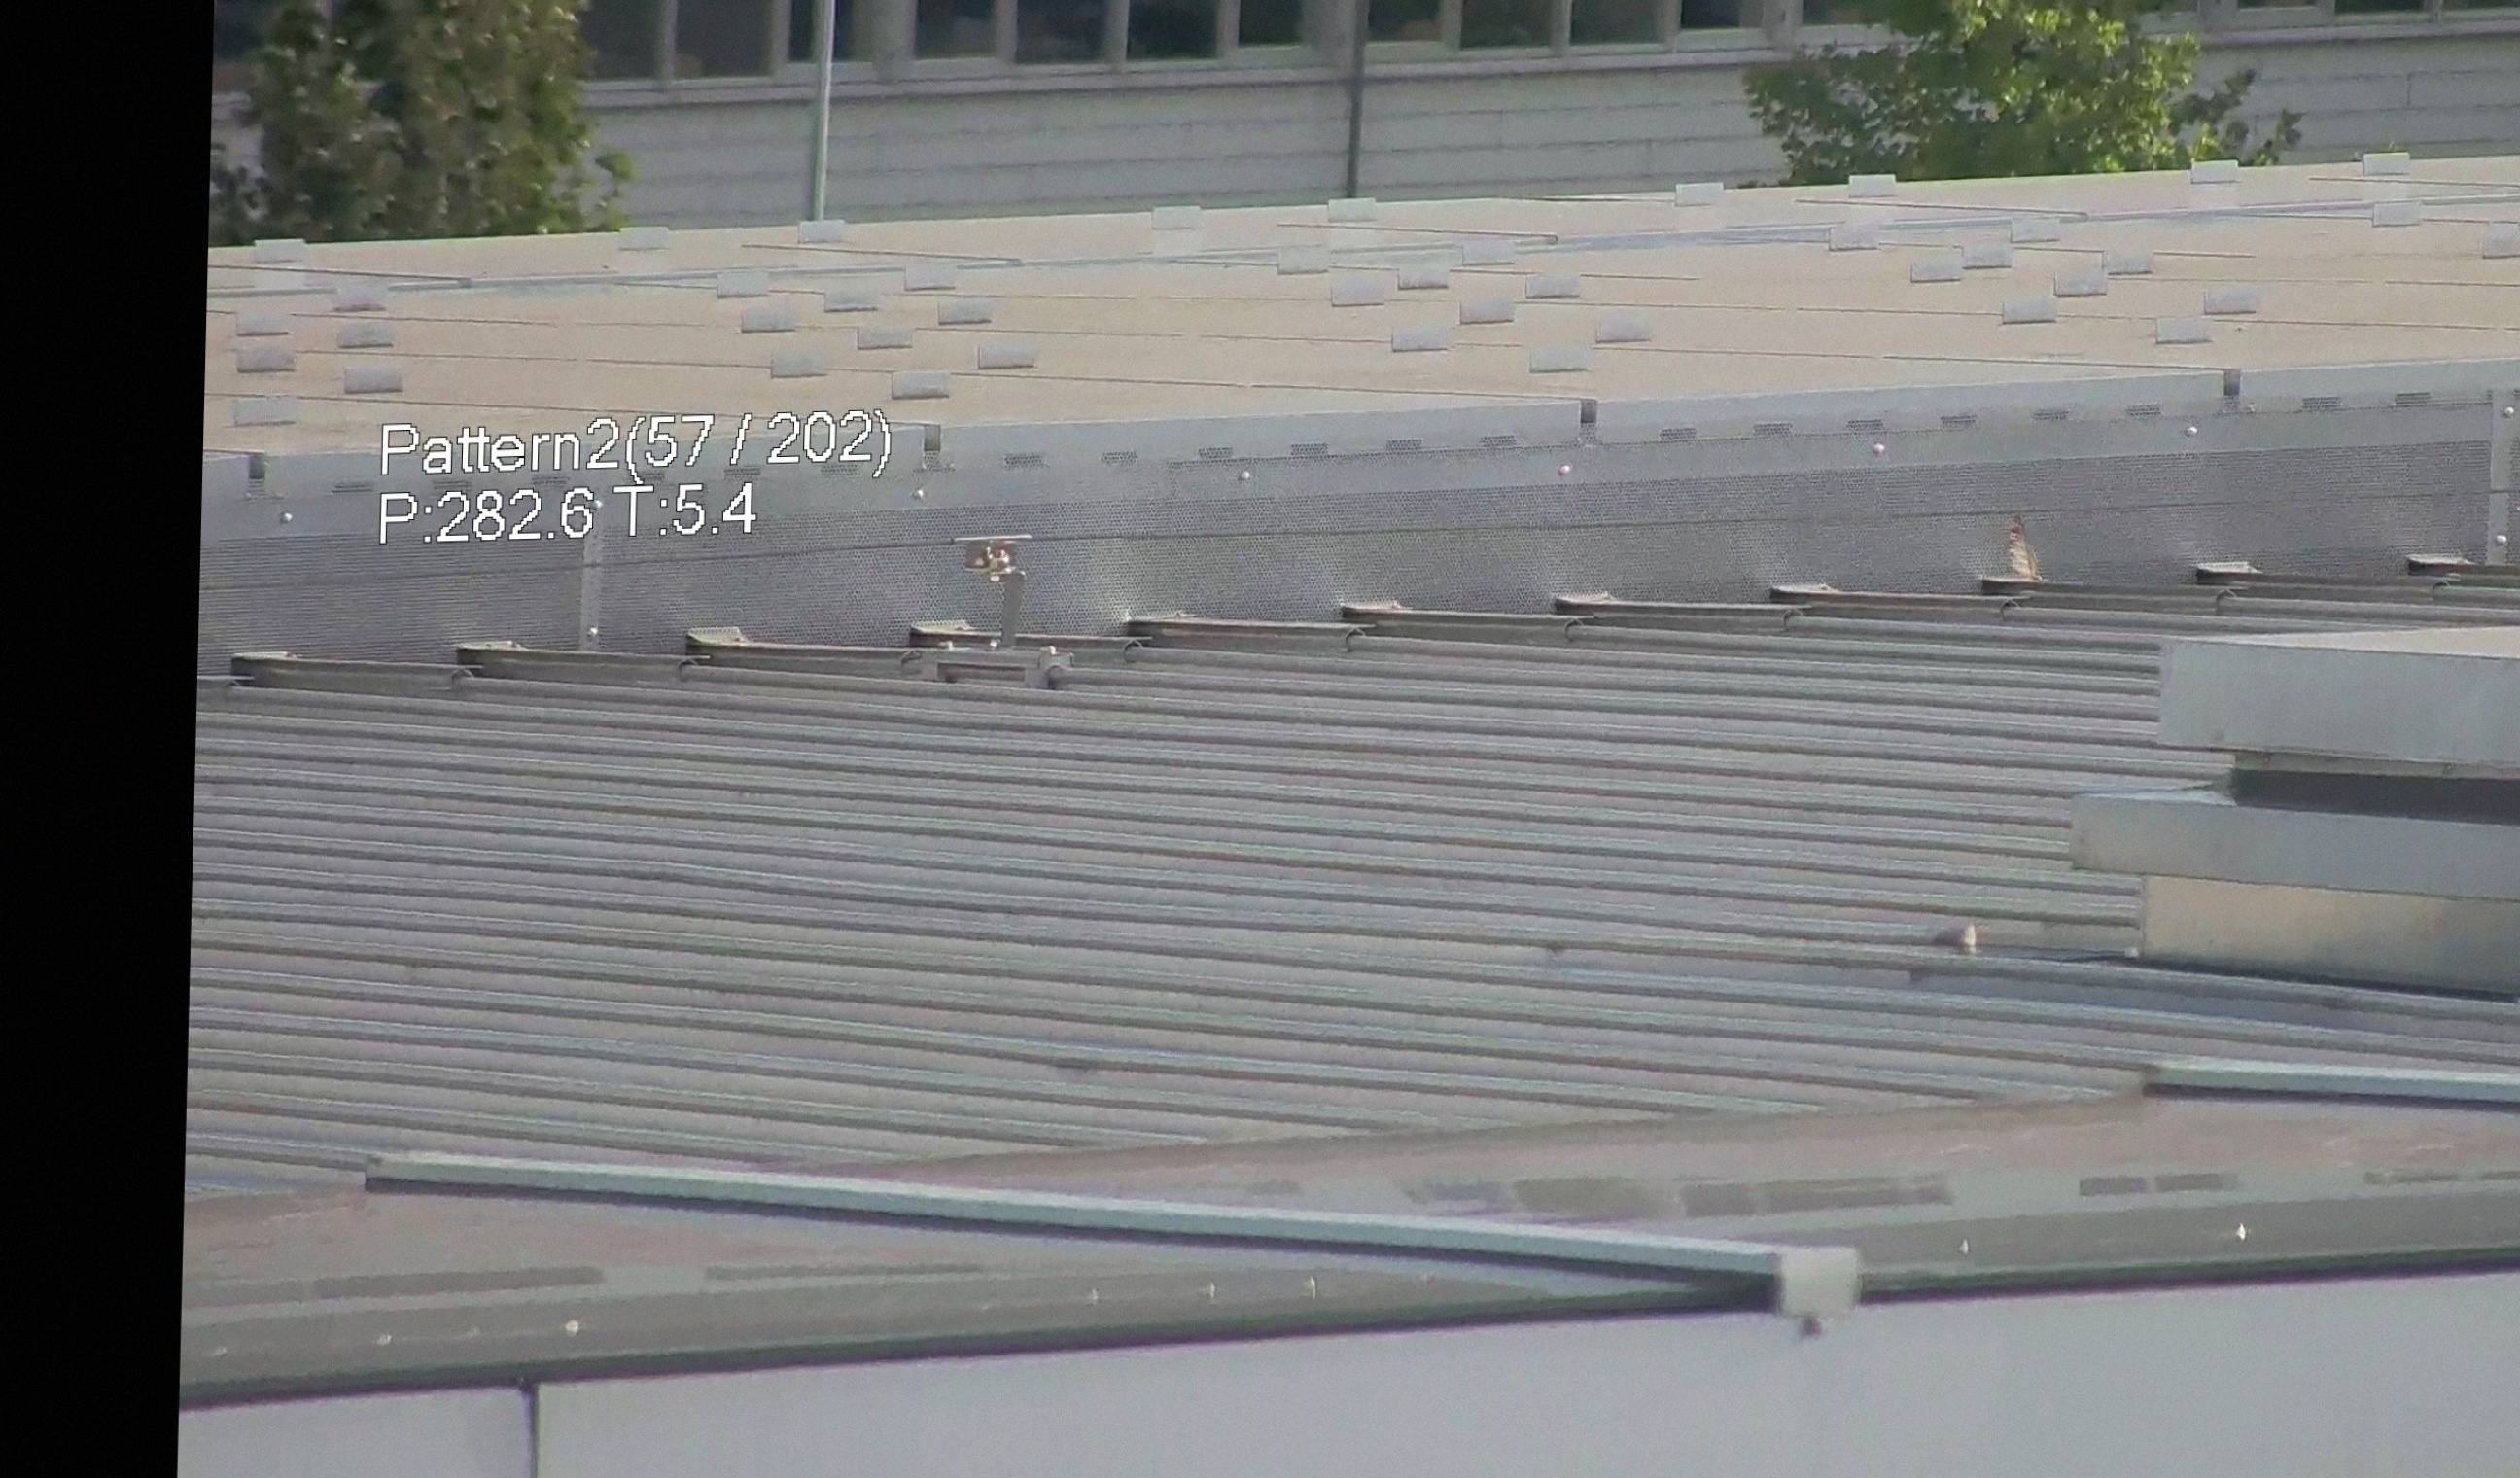Other: (1982, 498, 2059, 596)
